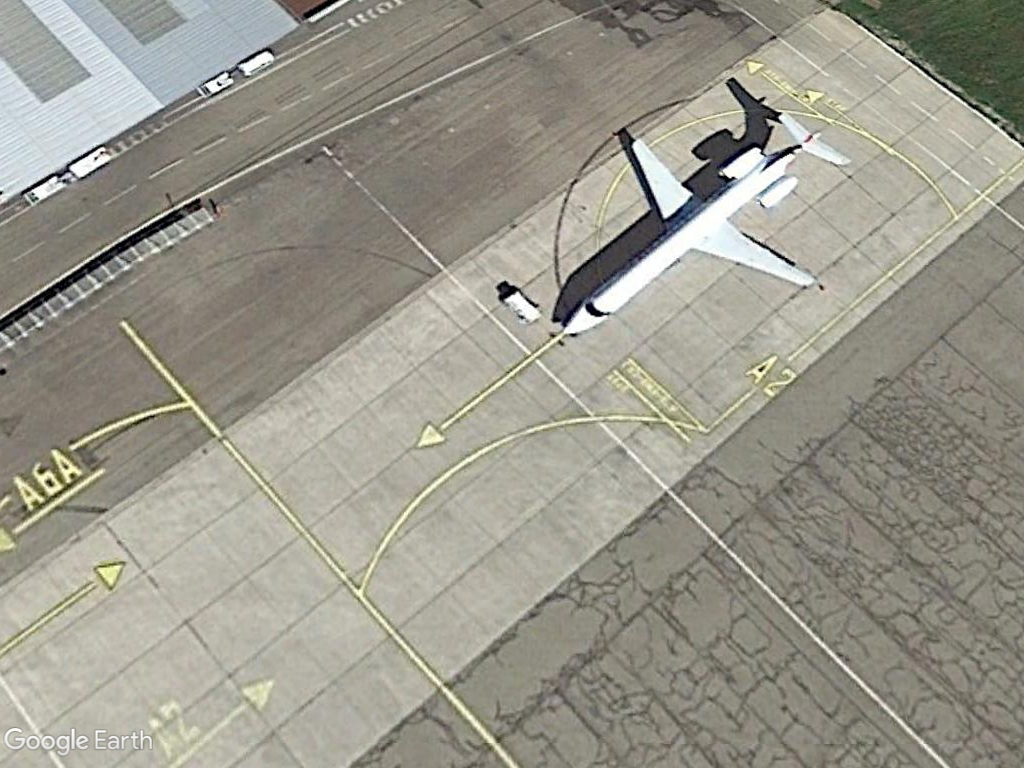chartered: (555, 107, 855, 343)
